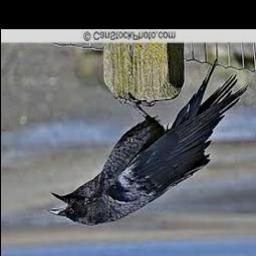Crow: (47, 58, 248, 227)
